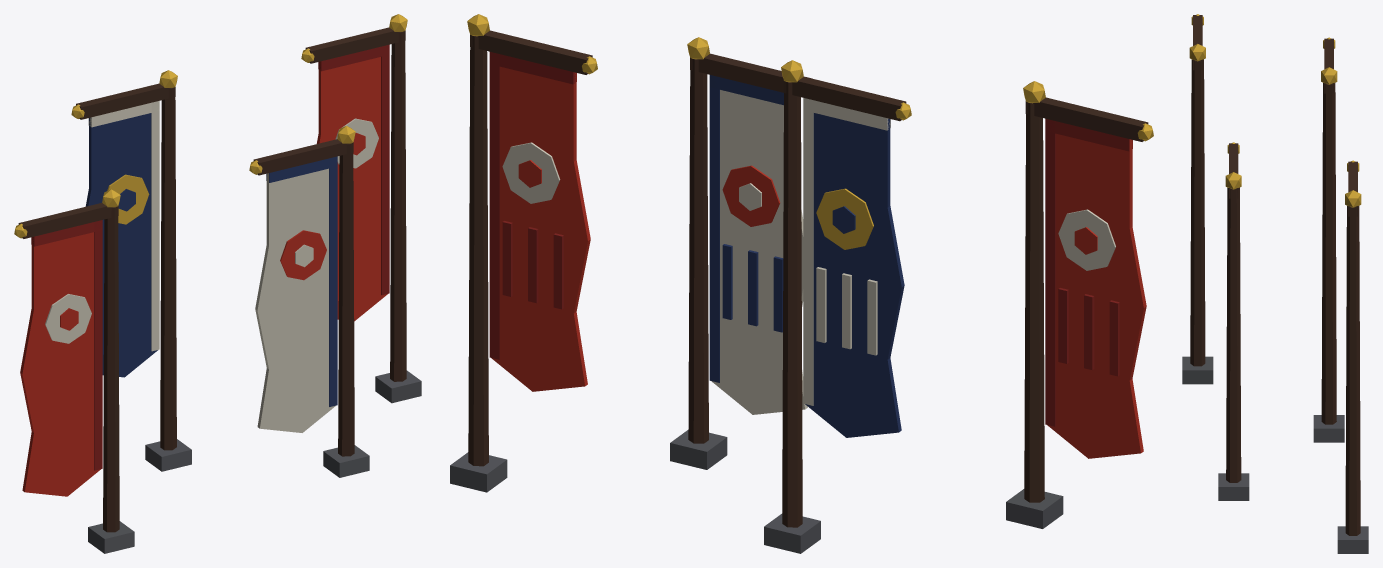
The model's file is Decor_SamuraiShrine_Nobori.fbx.
The picture shows the model from 3 angles, left to right: view 1: azimuth 30°, elevation 25°; view 2: azimuth 150°, elevation 25°; view 3: azimuth 270°, elevation 25°; orthographic projection. The views are drawn at different scales.
Parts seen in each view (by area): view 1: Nobori_Body; view 2: Nobori_Body; view 3: Nobori_Body.
Boxes of the visible parts, left/top/right/bottom form: Nobori_Body: left=14, top=14, right=421, bottom=553; Nobori_Body: left=450, top=14, right=1153, bottom=553; Nobori_Body: left=1182, top=14, right=1368, bottom=553.
Bounding box in the file's own units: 19.9 × 15.5 × 7.1.
